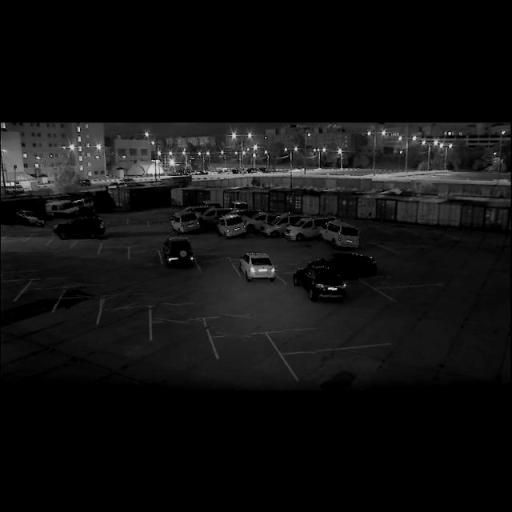busy: (295, 258, 359, 304), (286, 212, 340, 242), (52, 213, 110, 240), (320, 218, 368, 250), (35, 196, 96, 220), (240, 252, 282, 281), (215, 212, 252, 241), (163, 238, 195, 270), (260, 215, 302, 238), (169, 210, 204, 236), (246, 210, 276, 233), (9, 209, 47, 226)
free: (222, 338, 270, 369), (159, 321, 201, 346), (217, 312, 255, 339), (106, 308, 146, 329), (282, 330, 318, 353), (156, 302, 192, 325), (66, 300, 104, 318), (105, 291, 137, 311), (201, 258, 233, 273), (27, 290, 59, 304), (134, 249, 159, 263), (51, 240, 74, 254), (376, 274, 396, 289), (76, 285, 97, 299), (104, 248, 128, 258), (76, 243, 98, 253), (149, 222, 168, 231)
